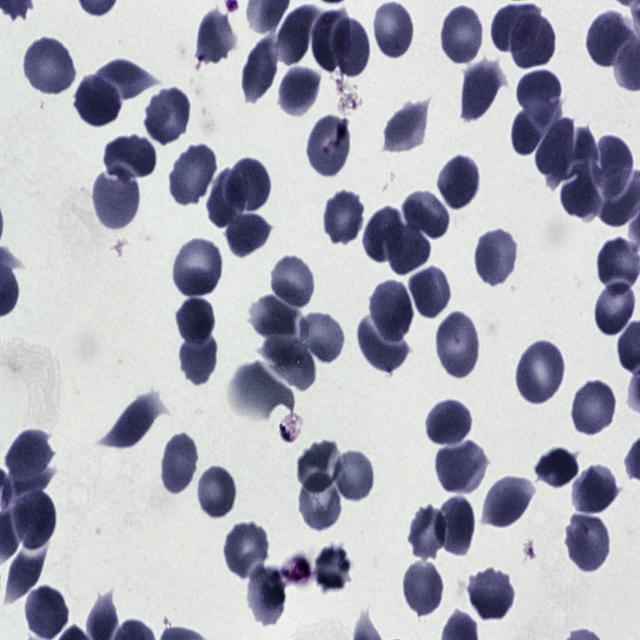red blood cell: (516, 336, 568, 409), (104, 391, 164, 453), (172, 236, 226, 301), (436, 308, 483, 381), (458, 57, 506, 128), (90, 59, 162, 105), (482, 474, 538, 533), (91, 168, 142, 232), (262, 334, 316, 392), (23, 36, 76, 95), (222, 519, 272, 581), (507, 12, 560, 70), (433, 444, 490, 497), (564, 514, 614, 574), (438, 3, 484, 68), (144, 85, 192, 147), (306, 114, 351, 180), (357, 318, 408, 376), (370, 278, 414, 344), (512, 98, 562, 156), (586, 11, 631, 75), (386, 216, 432, 278), (171, 144, 213, 210), (275, 3, 317, 68), (227, 154, 273, 213), (106, 130, 156, 184), (75, 73, 124, 128), (474, 227, 518, 288), (299, 309, 346, 366), (402, 188, 451, 242), (362, 205, 404, 268), (299, 470, 341, 533), (551, 126, 599, 181), (23, 583, 70, 639), (437, 154, 482, 212), (160, 431, 200, 496), (401, 558, 445, 617), (331, 447, 376, 504), (11, 492, 56, 549), (311, 10, 351, 74), (195, 463, 239, 520), (408, 264, 452, 321), (323, 188, 366, 246), (208, 167, 248, 228), (572, 384, 614, 442), (195, 8, 237, 66), (594, 134, 632, 198), (438, 496, 477, 558), (536, 116, 575, 178), (242, 37, 279, 102), (467, 572, 515, 622), (492, 4, 540, 54), (407, 503, 449, 560), (516, 71, 562, 123), (244, 297, 302, 338), (560, 166, 604, 220), (278, 62, 320, 118), (179, 330, 220, 387), (298, 440, 342, 493), (333, 16, 371, 77), (1, 460, 54, 503), (594, 282, 636, 336), (383, 101, 429, 150), (6, 429, 52, 477), (572, 468, 619, 514), (6, 550, 46, 604), (272, 259, 314, 310), (175, 296, 216, 348), (375, 2, 413, 58), (312, 542, 354, 592), (248, 569, 285, 625), (427, 402, 472, 448), (536, 446, 580, 491), (225, 214, 270, 257)
